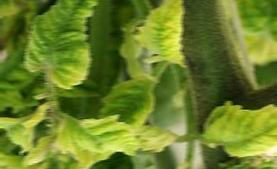Tomato leaf yellow virus: (25, 0, 114, 104), (65, 100, 172, 158), (132, 0, 196, 89), (203, 103, 277, 168)
